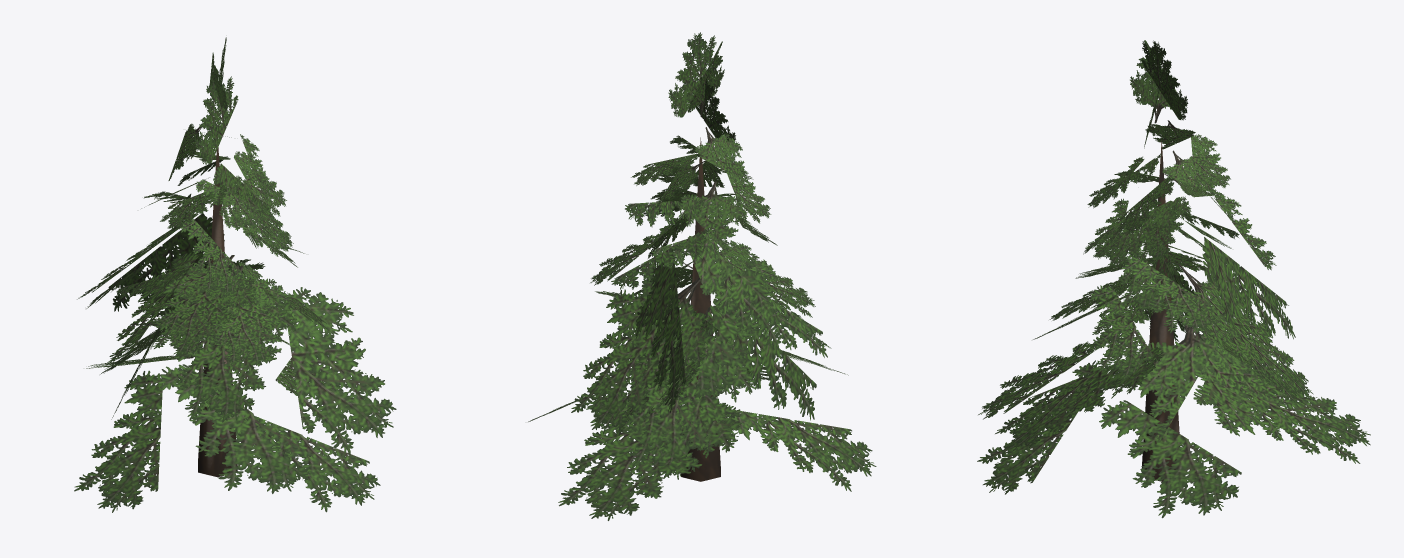
File: Tree_07_Lowest.fbx
3 views of the same model, side by side, from view 1: azimuth 30°, elevation 25°; view 2: azimuth 150°, elevation 25°; view 3: azimuth 270°, elevation 25° (orthographic).
Parts seen in each view (by area): view 1: polySurface2; view 2: polySurface2; view 3: polySurface2.
Part boxes in pixels (x1,y1,x2,y2): polySurface2: (74, 37, 396, 512); polySurface2: (528, 32, 876, 520); polySurface2: (977, 40, 1370, 518).
Size of the model in its own units: 524 by 661 by 595.
